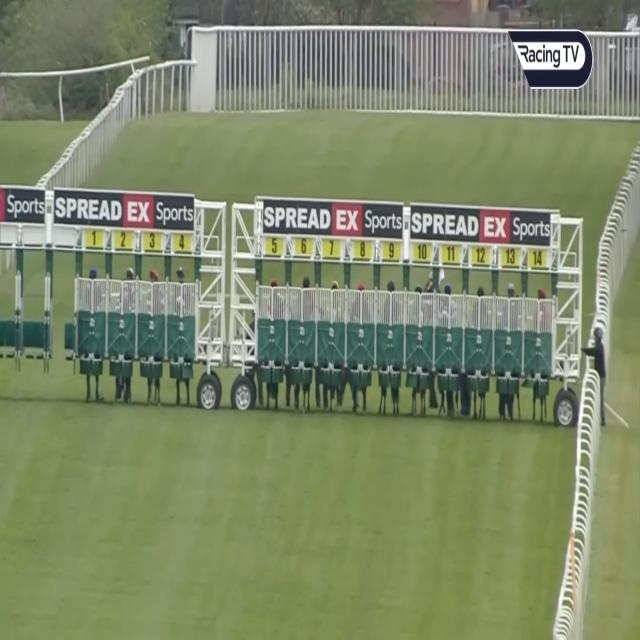horses-racing: (121, 266, 138, 284), (176, 265, 190, 284), (146, 269, 162, 285), (269, 276, 282, 292), (89, 259, 98, 281), (506, 282, 517, 300), (300, 275, 312, 288), (414, 282, 424, 296), (477, 284, 485, 301), (387, 280, 396, 294), (444, 282, 452, 297), (359, 279, 366, 296), (539, 287, 546, 303), (331, 280, 339, 289)
